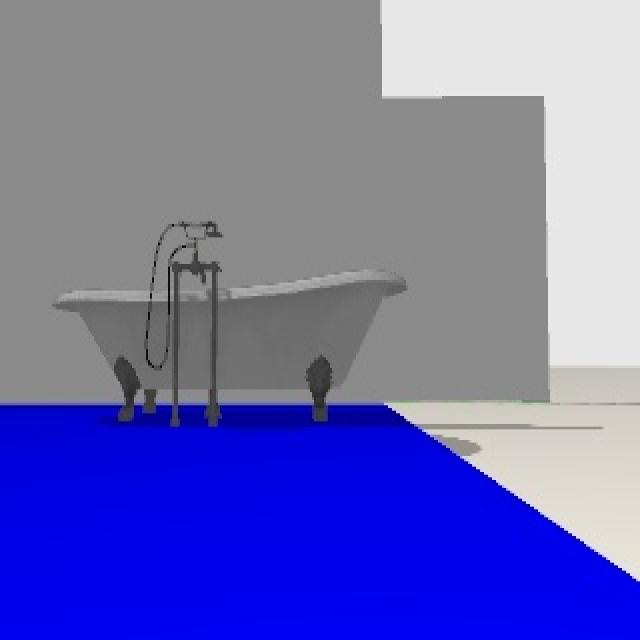bathtub: (52, 221, 408, 427)
